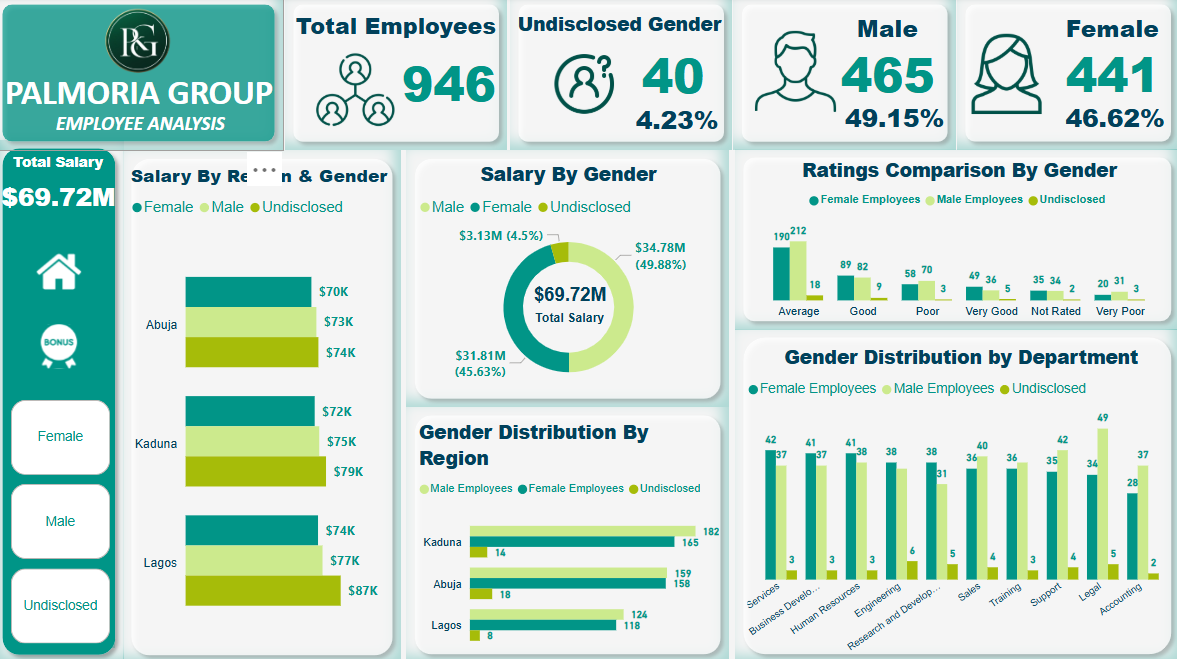

This screenshot's page, from the dashboard's own definition file:
{"tool":"powerbi","page":{"name":"Analysis","canvas":[1280,720],"ordinal":0},"visuals":[{"type":"shape","box":[140,166,300,554],"z":0},{"type":"shape","box":[445,166,348,276.9],"z":1000},{"type":"shape","box":[446,444,348,276],"z":2000},{"type":"shape","box":[800,360,480,360],"z":3000},{"type":"shape","box":[800,165,480,195],"z":4000},{"type":"donutChart","title":"Salary By Gender","fields":{"Category":["Palmoria Group emp-data.Gender"],"Y":["Sum(Palmoria Group emp-data.Salary)"]},"box":[454,178,333,255],"z":5000},{"type":"card","title":"Total Salary Paid","fields":{"Values":["Sum(Palmoria Group emp-data.Salary)"]},"box":[574,292,96,78],"z":6000},{"type":"clusteredColumnChart","title":"Gender Distribution by Department","fields":{"Category":["Palmoria Group emp-data.Department"],"Y":["Bonus Rules.Total Female Employees","Bonus Rules.Total Male Employees","Bonus Rules.Undisclosed"]},"box":[808,376,472,342],"z":7000},{"type":"clusteredBarChart","title":"Gender Distribution By Region","fields":{"Category":["Palmoria Group emp-data.Location"],"Y":["Bonus Rules.Male Employees","Bonus Rules.Female Employees","Bonus Rules.Undisclosed"]},"box":[454,456,334,264],"z":8000},{"type":"clusteredBarChart","title":"Salary By Region & Gender","fields":{"Series":["Palmoria Group emp-data.Gender"],"Category":["Palmoria Group emp-data.Location"],"Y":["Avg(Palmoria Group emp-data.Salary)"]},"box":[142,180,288,540],"z":9000},{"type":"clusteredColumnChart","title":"Ratings Comparison By Gender","fields":{"Category":["Palmoria Group emp-data.Rating"],"Y":["Bonus Rules.Female Employees","Bonus Rules.Male Employees","Bonus Rules.Undisclosed"]},"box":[808,174,468,183],"z":10000},{"type":"shape","box":[0,155.3,140,564.7],"z":11000},{"type":"actionButton","box":[42,266,56,64],"z":12000},{"type":"actionButton","box":[42,344.3,56,66],"z":13000},{"type":"advancedSlicerVisual","fields":{"Values":["Palmoria Group emp-data.Gender"]},"box":[12.2,431.4,117.5,273.4],"z":14000},{"type":"card","title":"Total Salary","fields":{"Values":["Sum(New Salary.Salary)"]},"box":[0,168,138,76],"z":15000},{"type":"shape","box":[313.8,0,240,166.2],"z":16000},{"type":"shape","box":[0,0,312,166],"z":17000},{"type":"shape","box":[1040,0,240,166],"z":18000},{"type":"shape","box":[798.8,0,240,166.2],"z":19000},{"type":"textbox","box":[6,76,300,86],"z":20000},{"type":"textbox","box":[62,120,204,36],"z":21000},{"type":"card","title":"Total Employees","fields":{"Values":["CountNonNull(Palmoria Group emp-data.Gender)"]},"box":[430,58,120,66],"z":22000},{"type":"card","title":"Male","fields":{"Values":["Bonus Rules.Male Employees"]},"box":[902.5,16.2,125,98.8],"z":23000},{"type":"card","fields":{"Values":["Bonus Rules.%Male"]},"box":[906.7,106.7,130,50],"z":24000},{"type":"card","fields":{"Values":["Bonus Rules.%Female"]},"box":[1145,106.7,130,50],"z":25000},{"type":"image","box":[800,31.2,130,101.2],"z":26000},{"type":"image","box":[1045,30,96.7,106.7],"z":27000},{"type":"shape","box":[556.2,0,240,166.2],"z":28000},{"type":"card","title":"Undisclosed","fields":{"Values":["Bonus Rules.Undisclosed"]},"box":[683.8,52.5,98.8,62.5],"z":29000},{"type":"image","box":[597.5,48.8,78.8,92.5],"z":30000},{"type":"textbox","title":"Undisclosed Gender","box":[551.2,16.2,248.8,30],"z":31000},{"type":"textbox","title":"Total Employees","box":[316,14,236,36],"z":32000},{"type":"image","box":[327.5,53.8,126.2,95],"z":33000},{"type":"card","title":"Female","fields":{"Values":["Bonus Rules.Female Employees"]},"box":[1145,16.7,125,98.3],"z":34000},{"type":"card","fields":{"Values":["Bonus Rules.%Undisclosed"]},"box":[672,108,130,50],"z":35000},{"type":"image","box":[12,0,288,98],"z":36000}]}

Visuals, with their boxes in screenshot pixels (x1, y1, x2, y2), scaled from the page's 1280x720 canvas onto the 1177x659 screenshot:
shape: 129 152 405 658
shape: 409 152 729 405
shape: 410 406 730 658
shape: 736 330 1176 658
shape: 736 151 1176 330
"Salary By Gender" donutChart: 417 163 724 396
"Total Salary Paid" card: 528 267 616 339
"Gender Distribution by Department" clusteredColumnChart: 743 344 1176 657
"Gender Distribution By Region" clusteredBarChart: 417 417 725 658
"Salary By Region & Gender" clusteredBarChart: 131 165 395 658
"Ratings Comparison By Gender" clusteredColumnChart: 743 159 1173 327
shape: 0 142 129 658
actionButton: 39 243 90 302
actionButton: 39 315 90 376
advancedSlicerVisual - Palmoria Group emp-data.Gender: 11 395 119 645
"Total Salary" card: 0 154 127 223
shape: 289 0 509 152
shape: 0 0 287 152
shape: 956 0 1176 152
shape: 735 0 955 152
textbox: 6 70 281 148
textbox: 57 110 245 143
"Total Employees" card: 395 53 506 113
"Male" card: 830 15 945 105
card - Bonus Rules.%Male: 834 98 953 143
card - Bonus Rules.%Female: 1053 98 1172 143
image: 736 29 855 121
image: 961 27 1050 125
shape: 511 0 732 152
"Undisclosed" card: 629 48 720 105
image: 549 45 622 129
"Undisclosed Gender" textbox: 507 15 736 42
"Total Employees" textbox: 291 13 508 46
image: 301 49 417 136
"Female" card: 1053 15 1168 105
card - Bonus Rules.%Undisclosed: 618 99 737 145
image: 11 0 276 90
